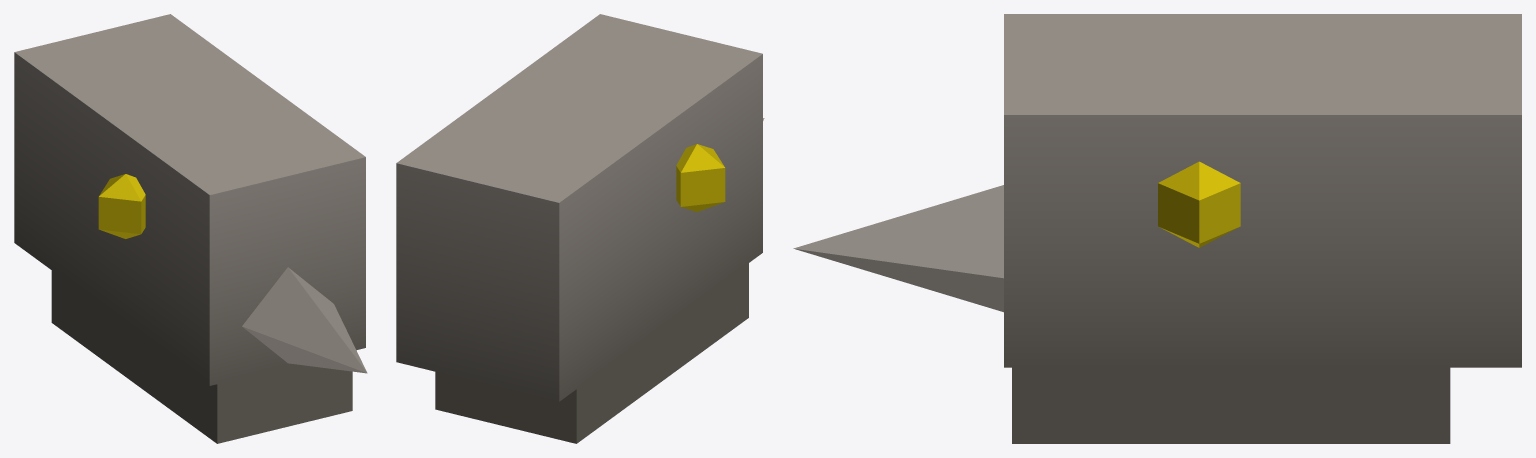
The model's file is head_elongated_B.glb.
3 views of the same model, side by side, from view 1: azimuth 30°, elevation 25°; view 2: azimuth 150°, elevation 25°; view 3: azimuth 270°, elevation 25° (orthographic). The views are drawn at different scales.
Size of the model in its own units: 0.4852 by 0.5082 by 1.
